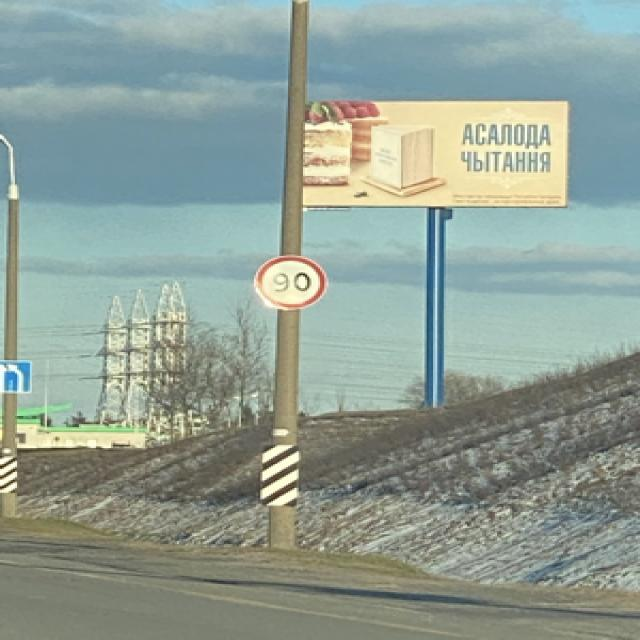speedlimit: (254, 253, 324, 307)
